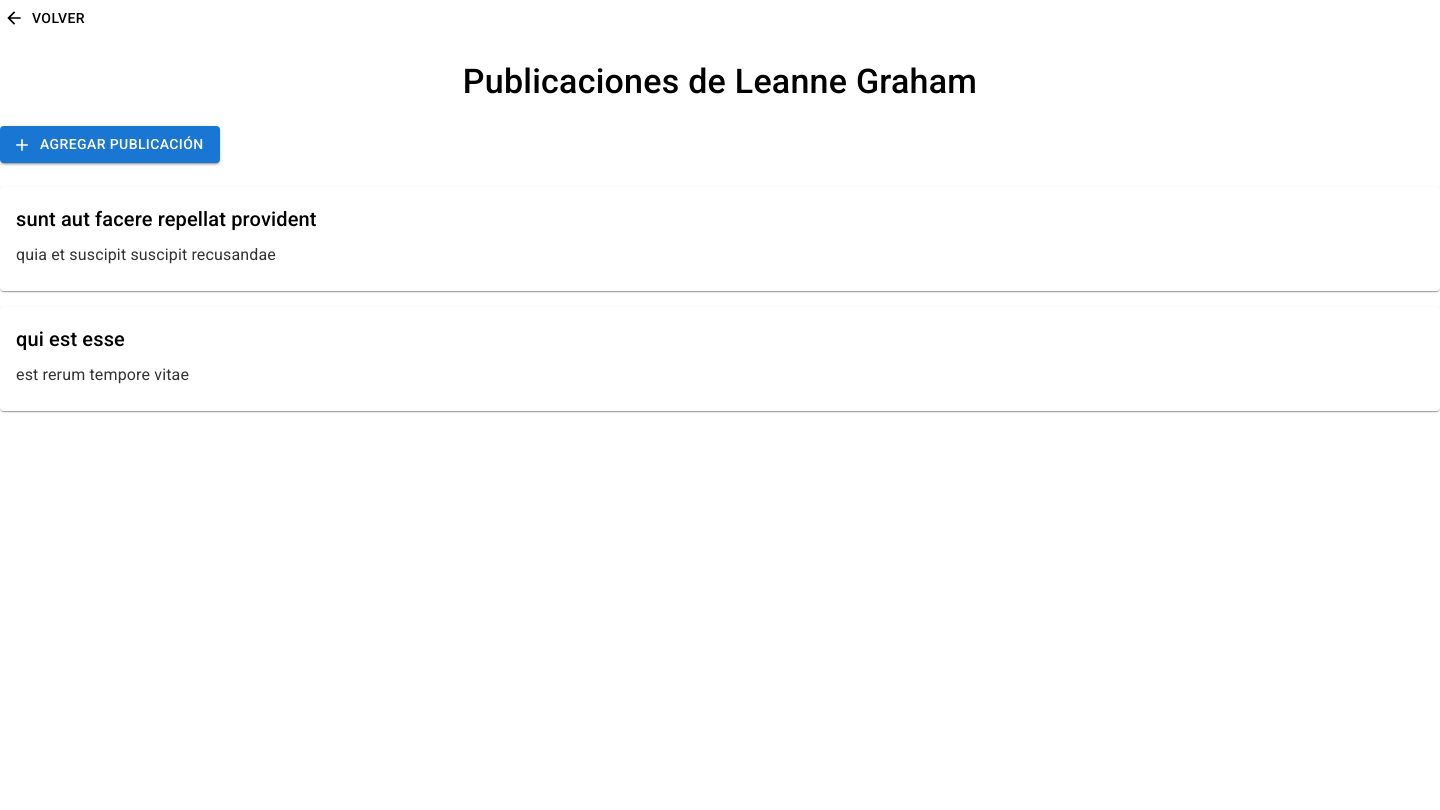
Test: PostListPage › opens the create post dialog when clicking add post button
Check: the heading "sunt aut facere repellat provident" is shown, box [16,207,317,231]
Click the button with test id "add-post-button": point(110, 145) [0,126,220,163]
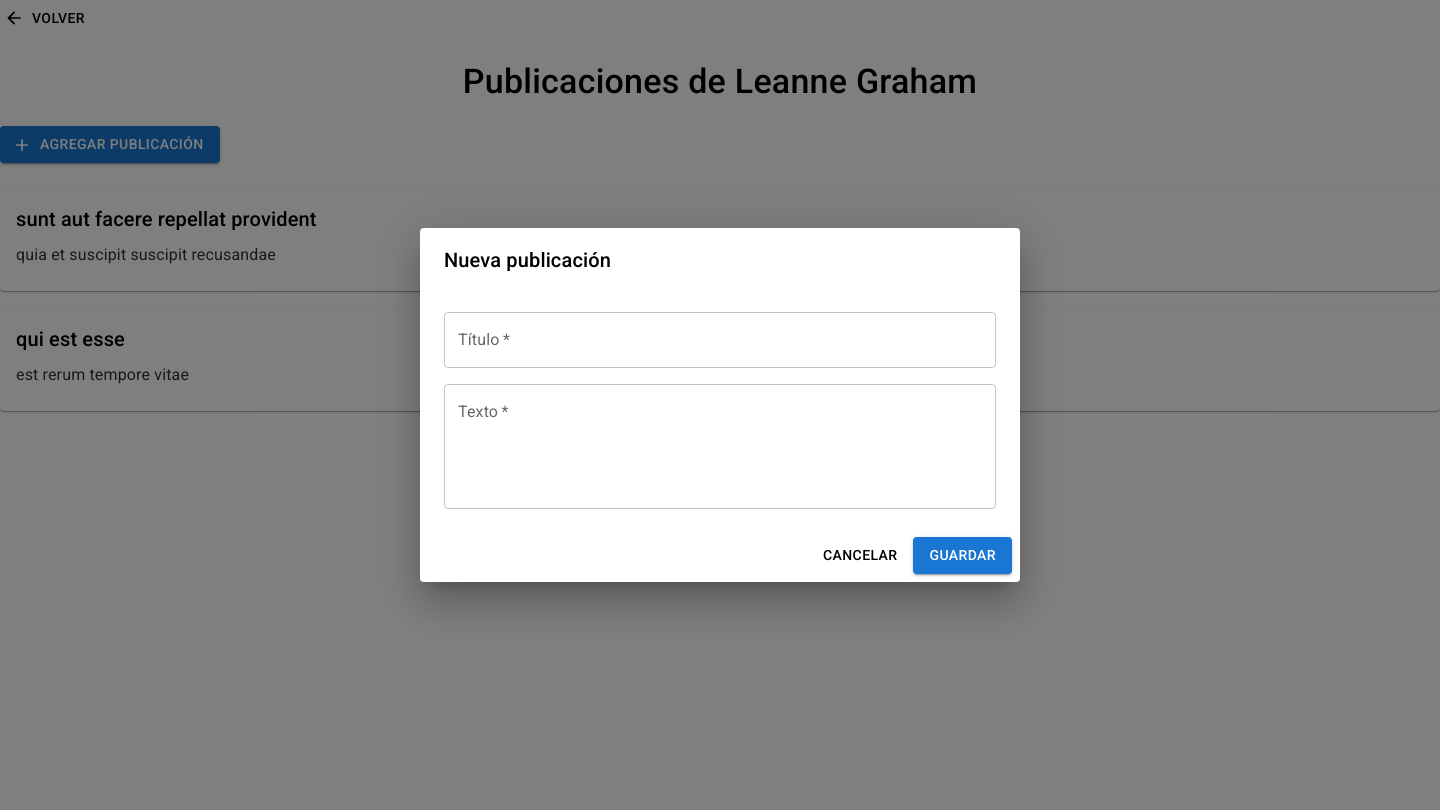
Check: the heading "Nueva publicación" is shown, box [444,248,611,272]
Check: the element with test id "post-title-input" is shown, box [444,312,996,368]
Check: the element with test id "post-body-input" is shown, box [444,384,996,509]
